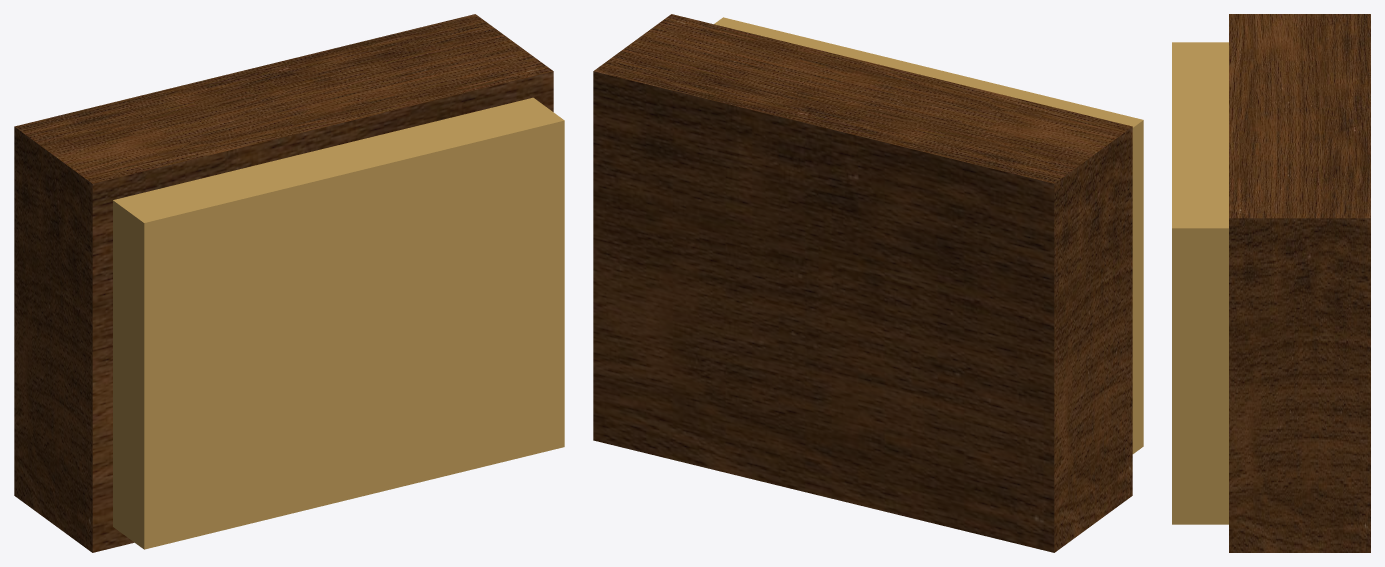
File: key.glb
3 views of the same model, side by side, from view 1: azimuth 30°, elevation 25°; view 2: azimuth 150°, elevation 25°; view 3: azimuth 270°, elevation 25° (orthographic). The views are drawn at different scales.
Visible parts, largest first — view 1: key; view 2: key; view 3: key.
Part boxes in pixels (x1,y1,x2,y2): key: (14, 14, 564, 552); key: (593, 14, 1143, 552); key: (1172, 14, 1370, 552).
Size of the model in its own units: 0.068 by 0.052 by 0.028.
2 materials, 1 textured.
